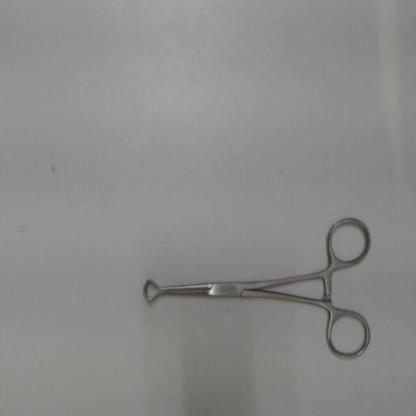Babcock Tissue Forceps: (140, 212, 375, 367)
